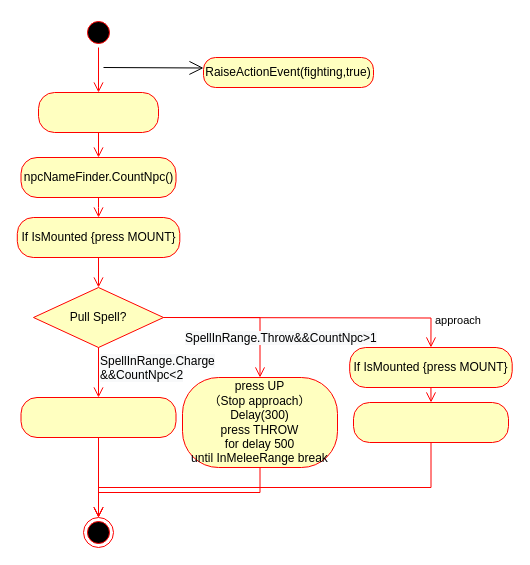
Image size: 530x565. Some labels were removed from this diagram. Each missing label, with the centre of its shape:
press CHARGE: pixel 98 417
press H: pixel 430 422
press UP （stop approch）: pixel 98 112
